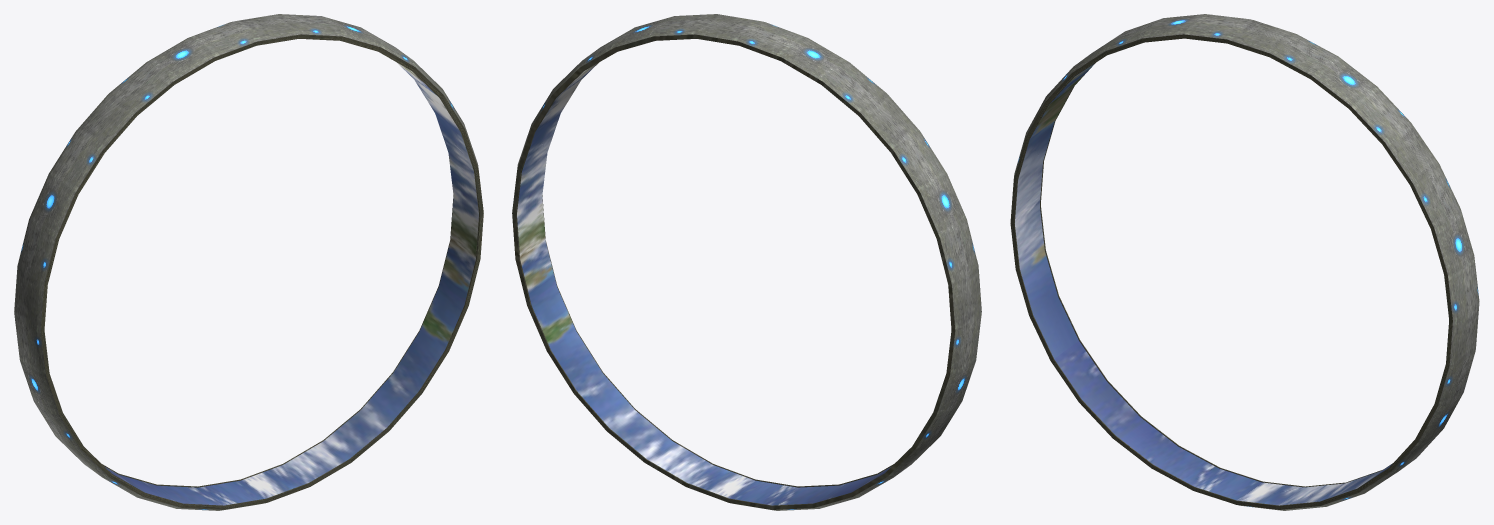
The picture shows the model from 3 angles, left to right: view 1: azimuth 30°, elevation 25°; view 2: azimuth 150°, elevation 25°; view 3: azimuth 330°, elevation 25°; orthographic projection.
Visible parts, largest first — view 1: Halo Ring; view 2: Halo Ring; view 3: Halo Ring.
Boxes of the visible parts, bbox=[...] form: Halo Ring: bbox=[14, 14, 483, 510]; Halo Ring: bbox=[512, 14, 981, 510]; Halo Ring: bbox=[1010, 14, 1479, 510].
Bounding box in the file's own units: 1906 × 1906 × 195.
Materials: 3 (3 with a texture image).
